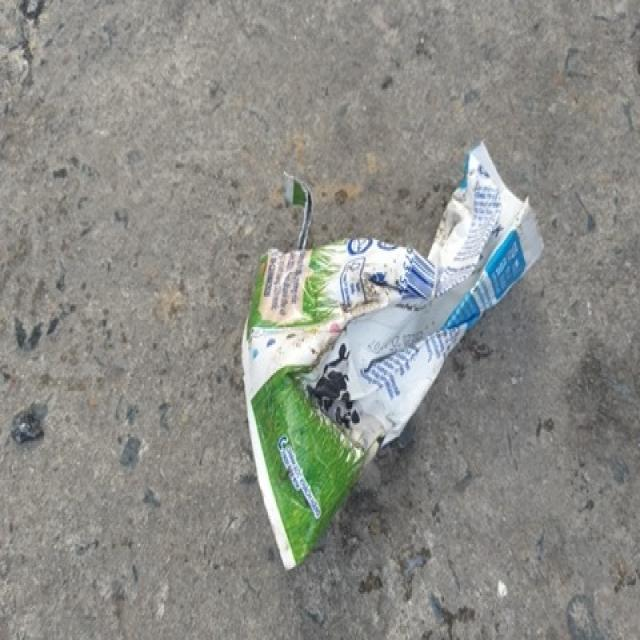PaperCardboard: (238, 135, 549, 570)
